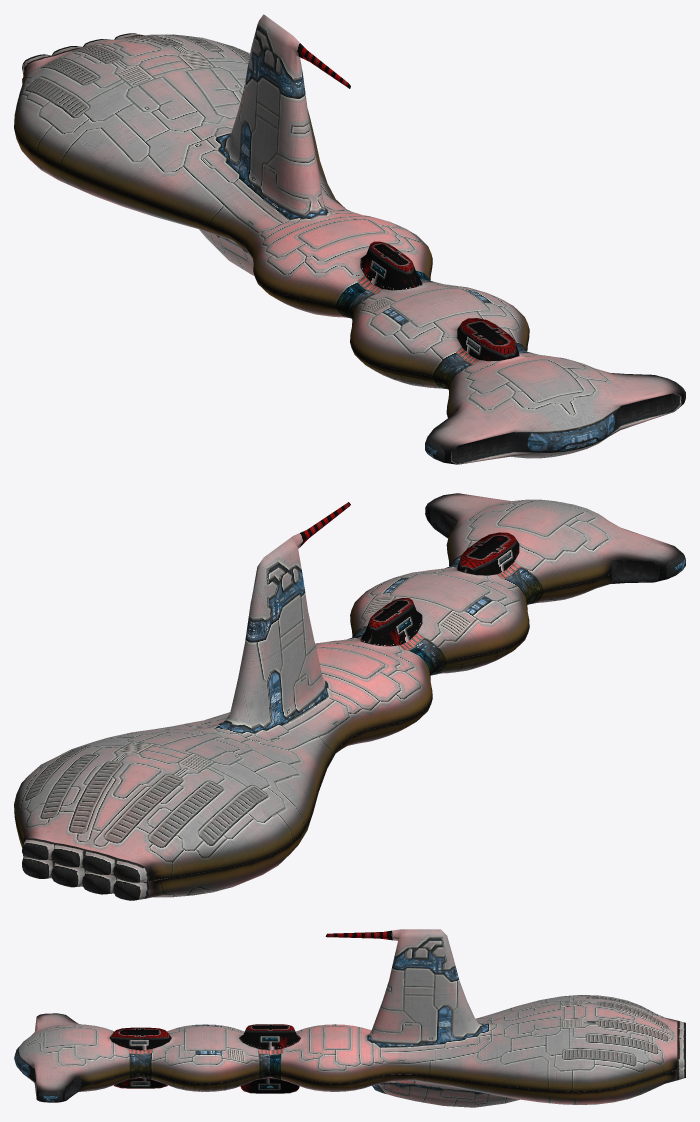
Rendered from cultivator.obj.
The picture shows the model from 3 angles, top to bottom: view 1: azimuth 30°, elevation 25°; view 2: azimuth 150°, elevation 25°; view 3: azimuth 270°, elevation 25°; orthographic projection. The views are drawn at different scales.
Parts seen in each view (by area): view 1: octotoad1; view 2: octotoad1; view 3: octotoad1.
Boxes of the visible parts, x1=… form: octotoad1: x1=14, y1=14, x2=685, y2=464; octotoad1: x1=14, y1=493, x2=685, y2=900; octotoad1: x1=14, y1=929, x2=685, y2=1107.
Size of the model in its own units: 5.16 by 5.07 by 17.33.
1 material, 1 textured.
